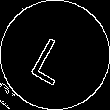L_NE: (29, 26, 81, 84)
